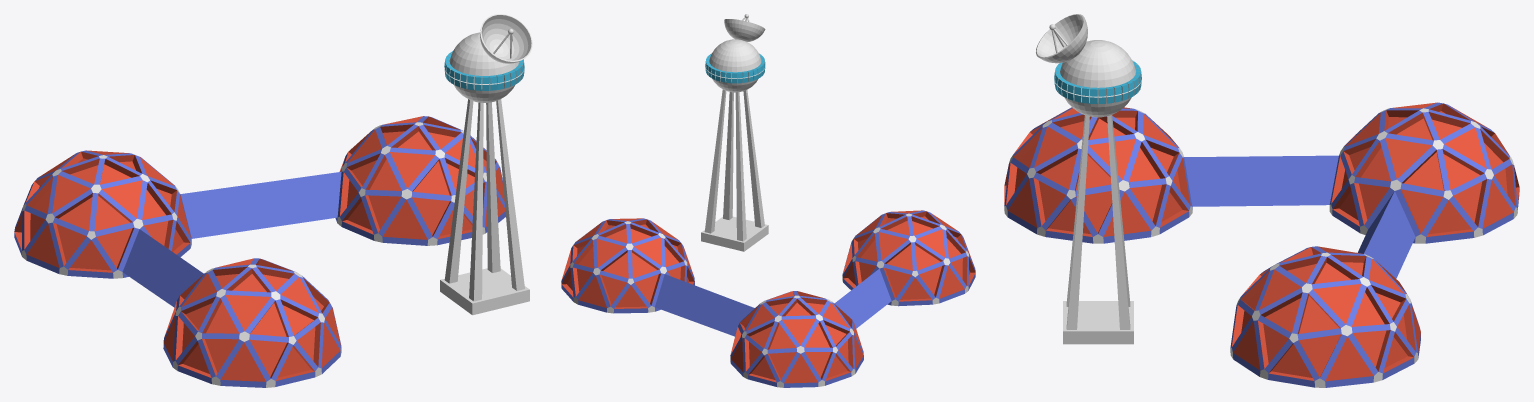
Rendered from moonBaseTwo.fbx.
3 renders of one model, left to right at view 1: azimuth 30°, elevation 25°; view 2: azimuth 150°, elevation 25°; view 3: azimuth 270°, elevation 25°, orthographic. The views are drawn at different scales.
Parts seen in each view (by area): view 1: Icosphere, Cube, Sphere, Sphere.001; view 2: Icosphere, Cube, Sphere, Sphere.001; view 3: Icosphere, Cube, Sphere, Sphere.001.
Part boxes in pixels (x1,y1,x2,y2): Icosphere: (14, 116, 505, 387); Cube: (440, 99, 529, 315); Sphere: (444, 32, 524, 102); Sphere.001: (480, 14, 532, 63); Icosphere: (561, 210, 975, 387); Cube: (701, 89, 768, 251); Sphere: (705, 39, 765, 92); Sphere.001: (724, 19, 765, 41); Icosphere: (1004, 102, 1519, 387); Cube: (1063, 115, 1133, 344); Sphere: (1054, 40, 1141, 117); Sphere.001: (1036, 14, 1087, 63).
Size of the model in its own units: 8366 by 5371 by 8045.
